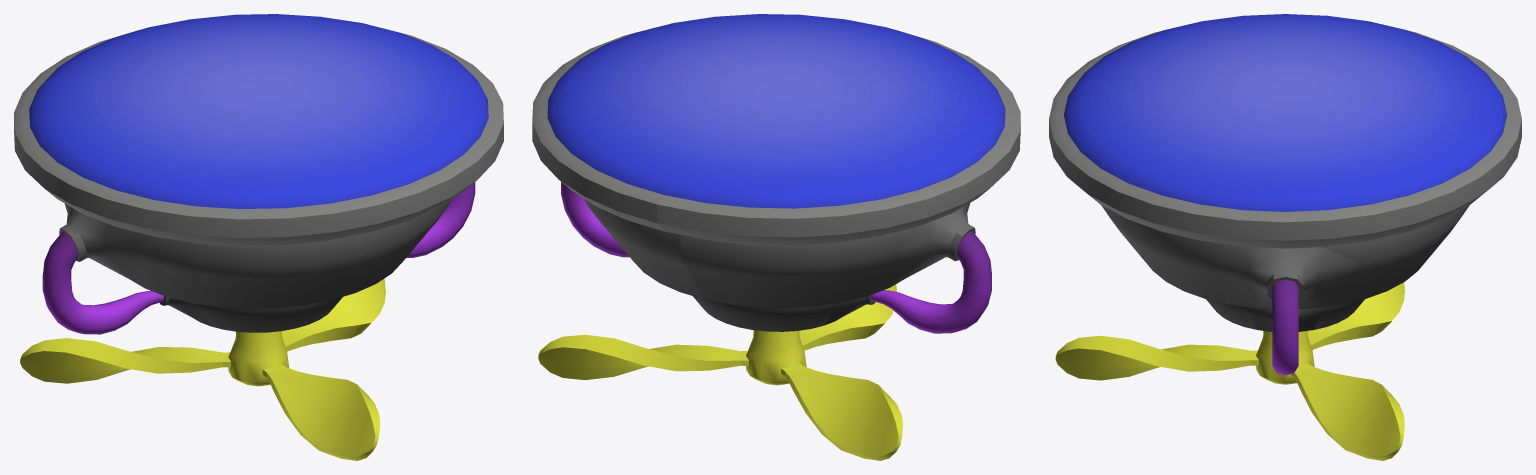
The model's file is MiddlePlatform.fbx.
The picture shows the model from 3 angles, left to right: view 1: azimuth 30°, elevation 25°; view 2: azimuth 150°, elevation 25°; view 3: azimuth 270°, elevation 25°; orthographic projection.
Parts seen in each view (by area): view 1: Sphere.001, Cylinder, Fan, Cylinder.001, FanInsert; view 2: Sphere.001, Cylinder, Fan, Cylinder.001, FanInsert; view 3: Sphere.001, Cylinder, Fan, Cylinder.001, FanInsert.
Boxes of the visible parts, bbox=[...] form: Sphere.001: bbox=[29, 14, 488, 208]; Cylinder: bbox=[14, 29, 503, 308]; Fan: bbox=[20, 278, 385, 460]; Cylinder.001: bbox=[42, 182, 475, 334]; FanInsert: bbox=[159, 296, 342, 332]; Sphere.001: bbox=[547, 14, 1005, 208]; Cylinder: bbox=[532, 29, 1020, 307]; Fan: bbox=[538, 284, 902, 460]; Cylinder.001: bbox=[561, 182, 991, 333]; FanInsert: bbox=[693, 295, 875, 331]; Sphere.001: bbox=[1064, 14, 1506, 211]; Cylinder: bbox=[1049, 30, 1521, 308]; Fan: bbox=[1055, 282, 1404, 460]; Cylinder.001: bbox=[1272, 279, 1298, 375]; FanInsert: bbox=[1206, 299, 1364, 331].
Bounding box in the file's own units: 400 × 271 × 386.
